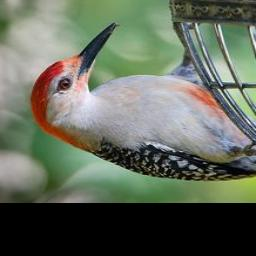Woodpecker: (31, 23, 256, 183)
